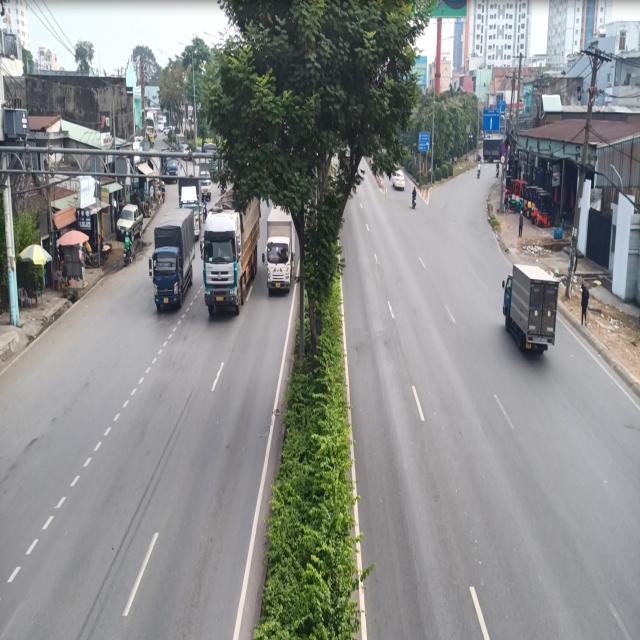truck: (201, 191, 262, 310), (499, 253, 563, 364), (150, 203, 199, 329), (264, 203, 295, 293)
